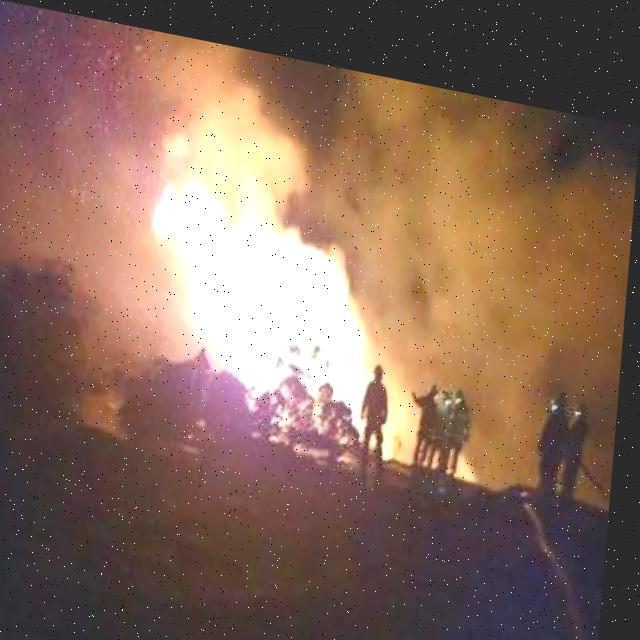Fire: (146, 102, 388, 440)
